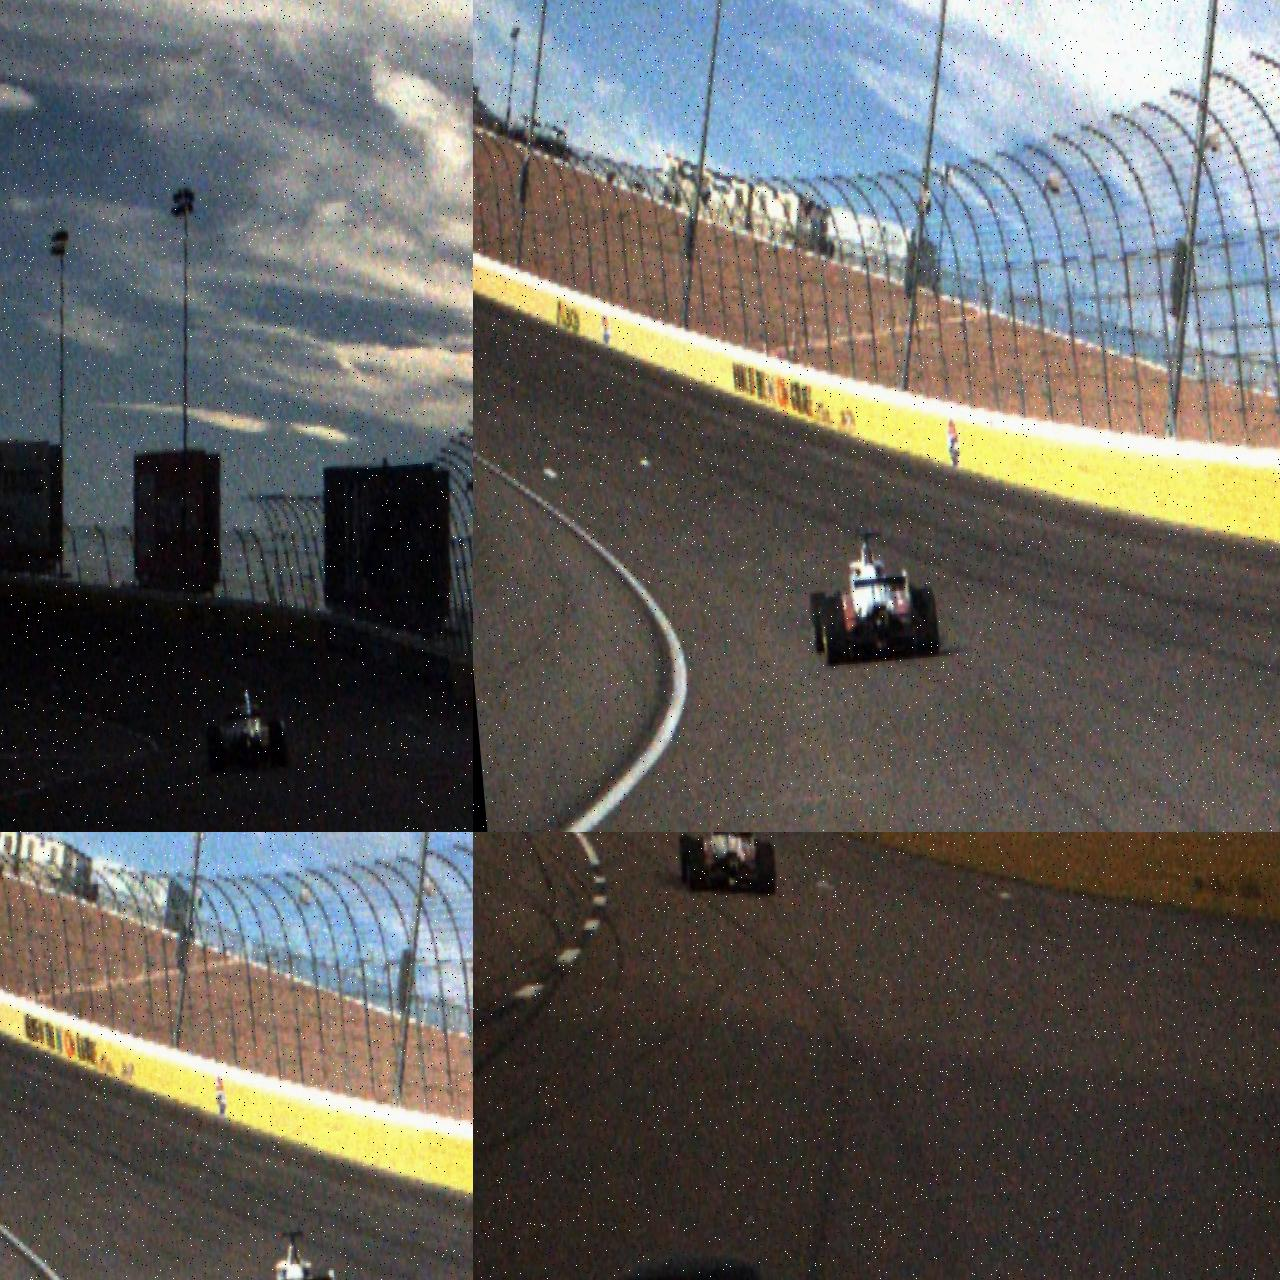AV: (804, 524, 941, 667), (203, 682, 290, 775), (229, 1223, 368, 1280), (673, 832, 778, 903)
Wheel: (821, 594, 850, 667), (912, 586, 940, 659), (810, 591, 831, 654), (755, 842, 778, 896), (686, 839, 708, 893), (268, 720, 290, 770), (206, 726, 227, 775), (678, 835, 695, 887)
